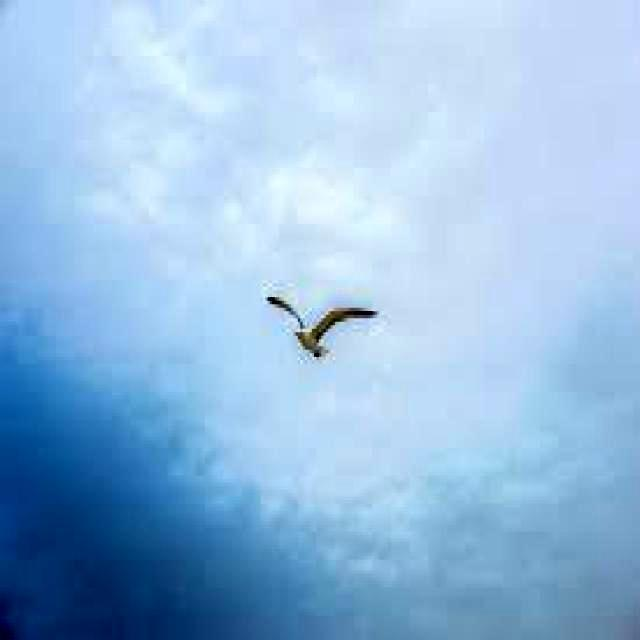bird: (262, 286, 378, 366)
